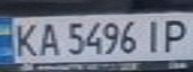4: (81, 18, 106, 56)
5: (63, 19, 87, 56)
6: (118, 18, 142, 55)
9: (100, 19, 124, 56)
A: (33, 19, 63, 57)
I: (139, 16, 169, 54)
K: (6, 19, 42, 58)
P: (157, 16, 193, 53)
